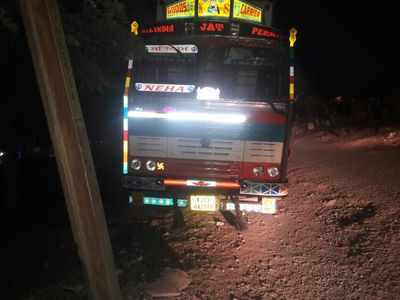truck: (120, 2, 295, 227)
